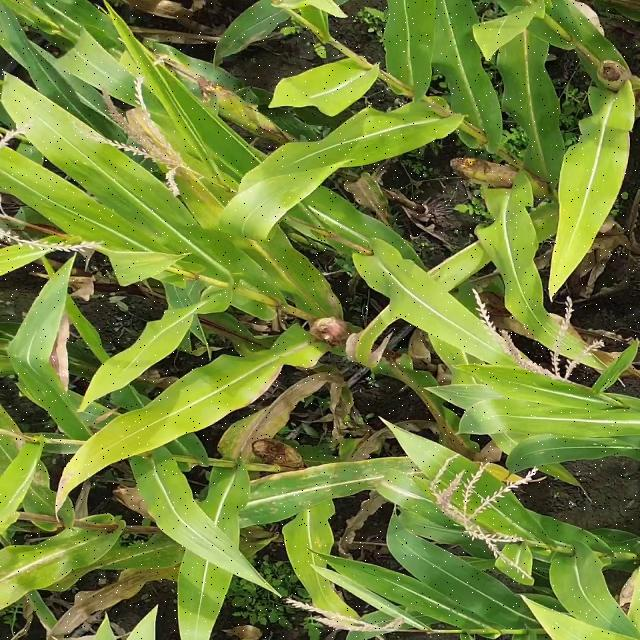gray-leaf-spot: (5, 352, 54, 398)
northern-leaf-blight: (159, 51, 232, 92), (376, 480, 437, 506)
southern-leaf-blight: (250, 461, 351, 518), (120, 537, 182, 569), (29, 481, 74, 522), (225, 420, 248, 452)
